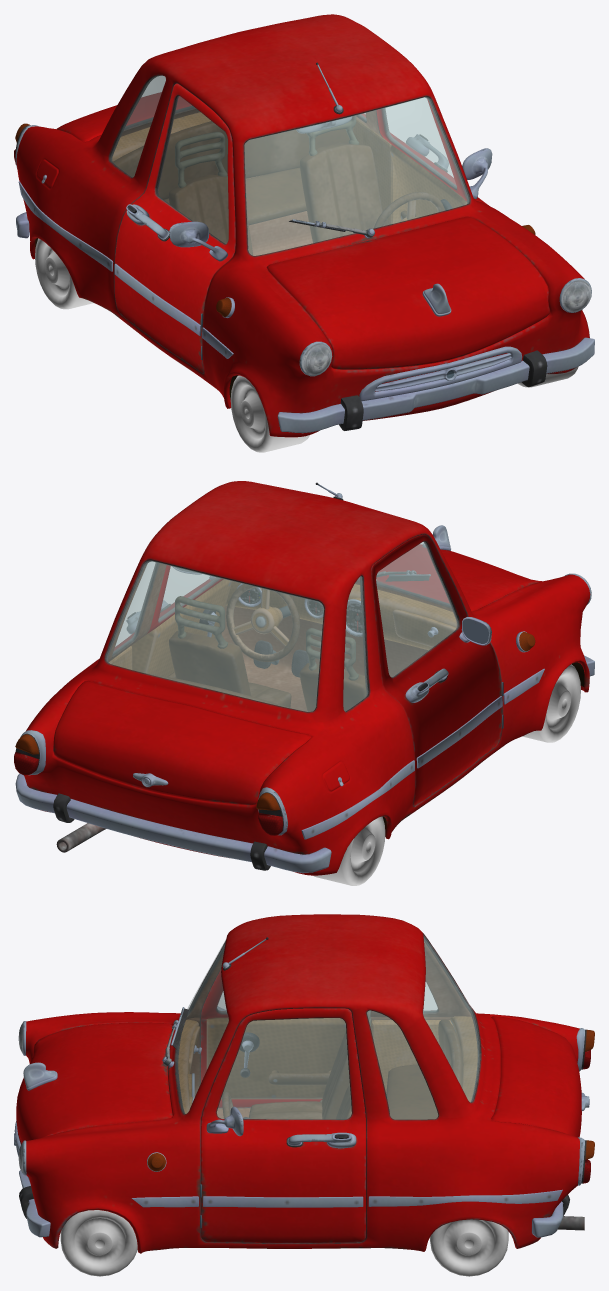
3 views of the same model, one above another, from view 1: azimuth 30°, elevation 25°; view 2: azimuth 150°, elevation 25°; view 3: azimuth 270°, elevation 25° (orthographic). The views are drawn at different scales.
Visible parts, largest first — view 1: CarC6_0003.001; view 2: CarC6_0003.001; view 3: CarC6_0003.001.
Part boxes in pixels (x1,y1,x2,y2): CarC6_0003.001: [14, 14, 594, 452]; CarC6_0003.001: [14, 481, 594, 885]; CarC6_0003.001: [14, 914, 594, 1276].
Size of the model in its own units: 5.39 by 4.46 by 8.73.
